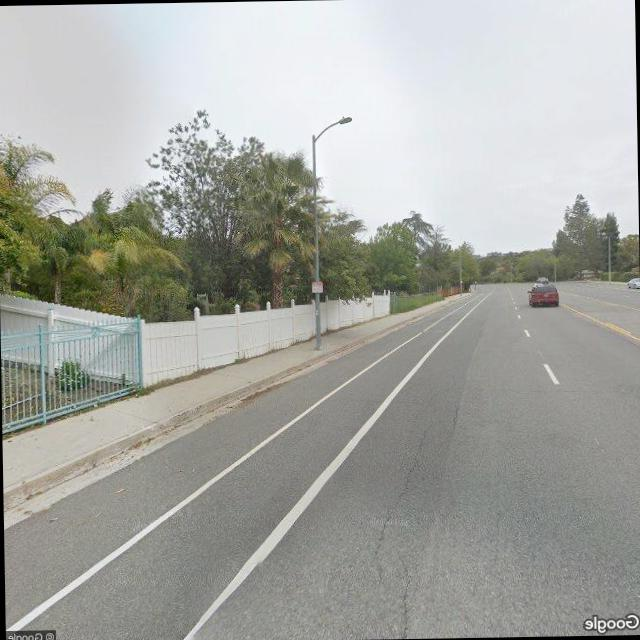pothole: (368, 417, 438, 636), (447, 399, 464, 436)
